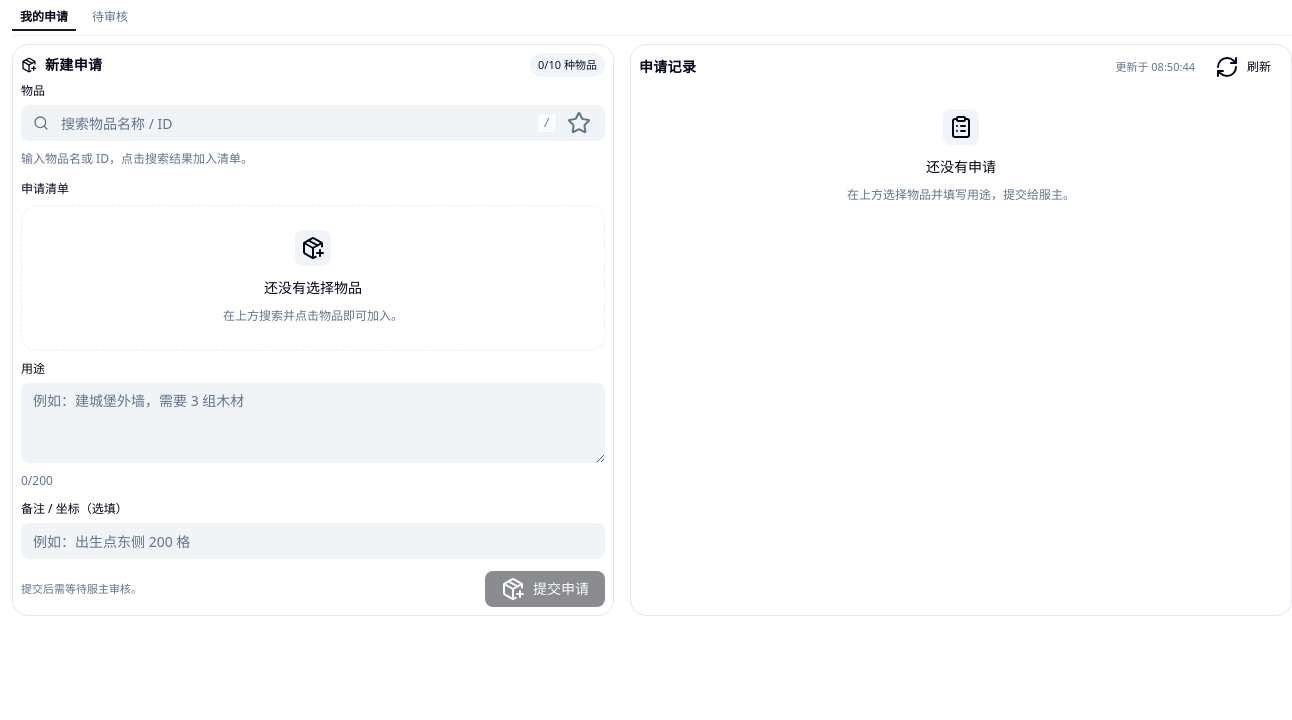
Scenario: RequisitionPage › 搜索物品、填用途并提交申请
Type "生命水晶" into the field with placeholder "搜索物品名称 / ID" at (289, 123), box [49,105,529,141]
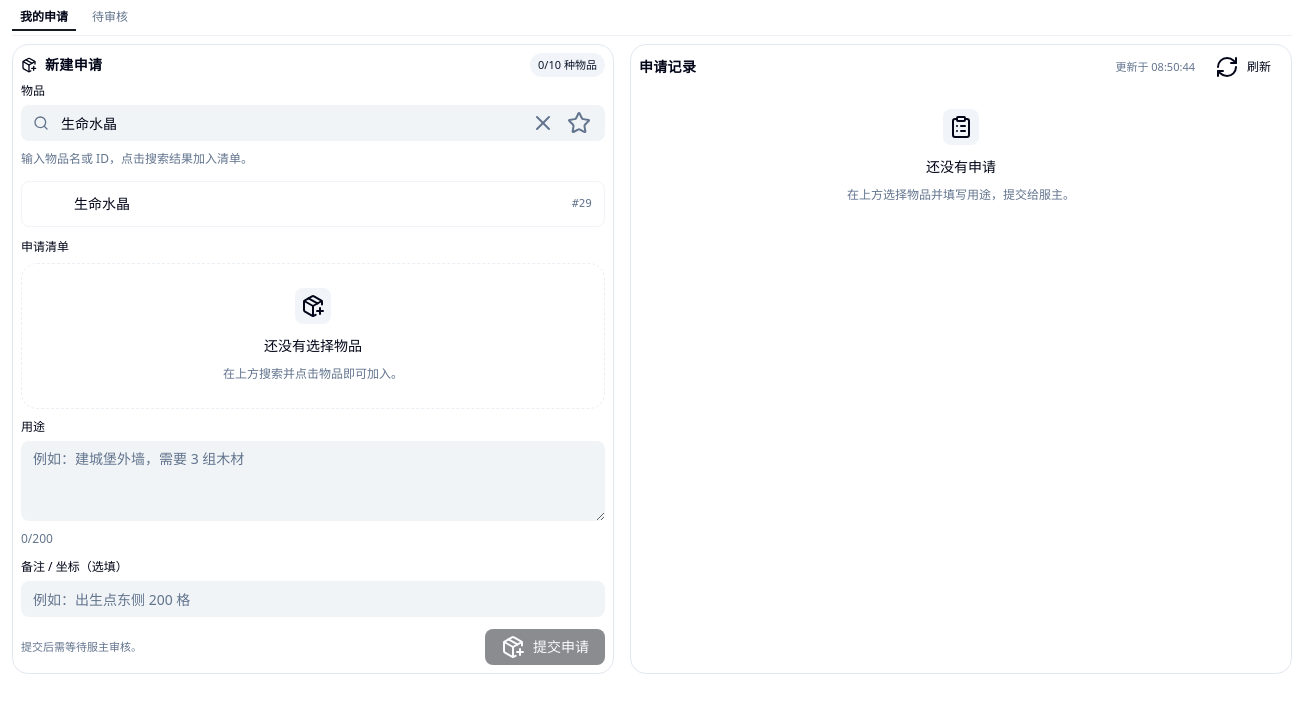
Click the button "生命水晶 #29" at (102, 204), box [22,182,604,226]
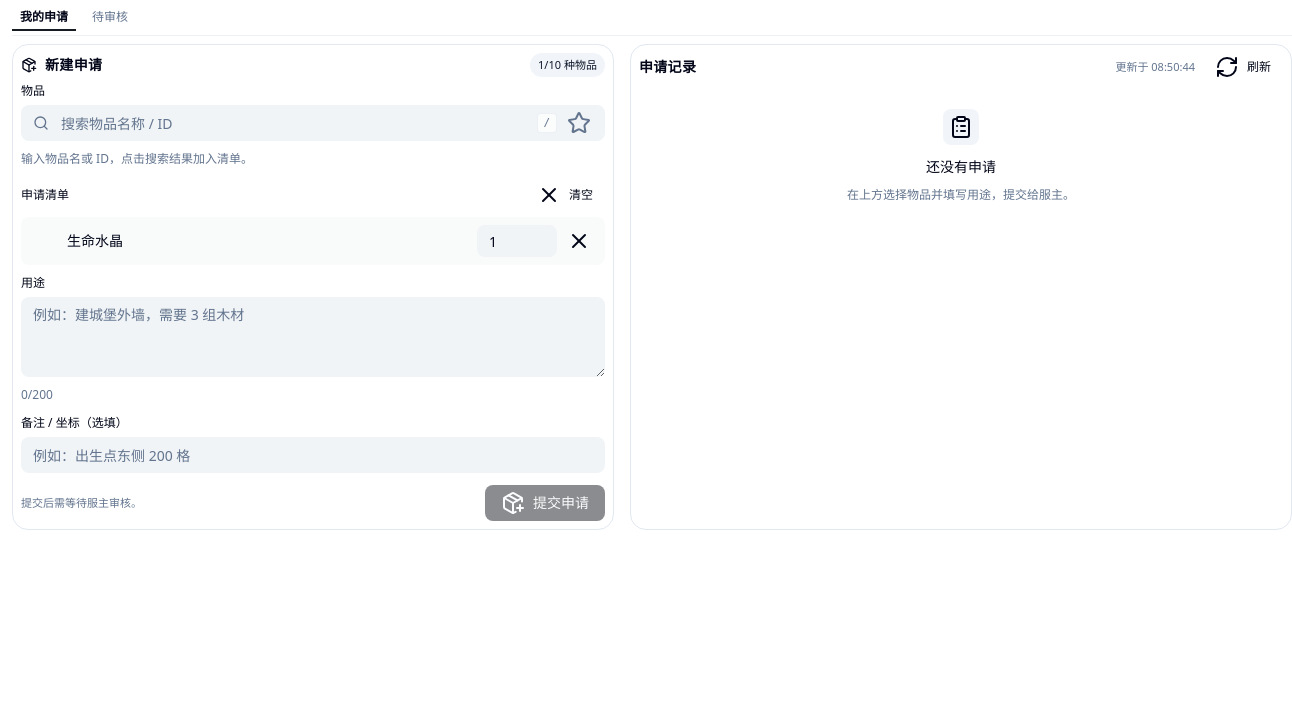
Replace the text in the number field named "数量" with "3" at (517, 241), box [477,225,557,257]
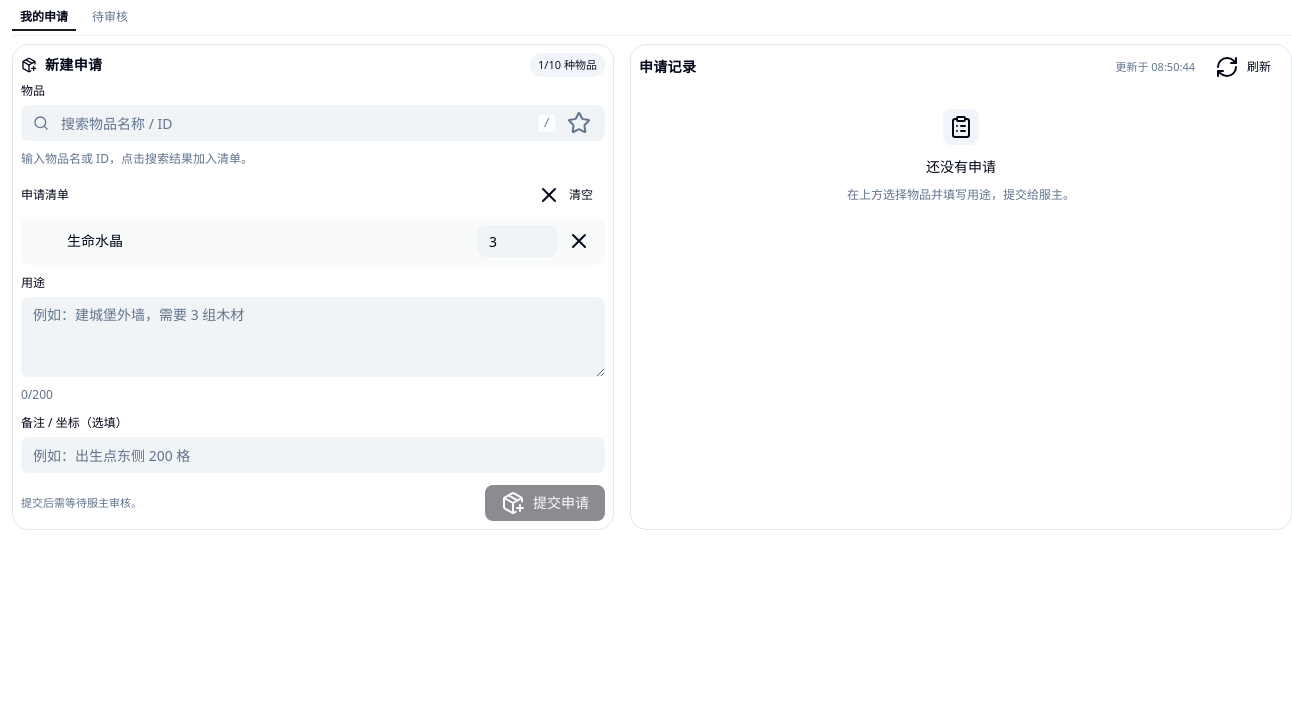
Type "建一个刷怪场" into the text box labelled "用途" at (313, 337), box [21,297,605,377]
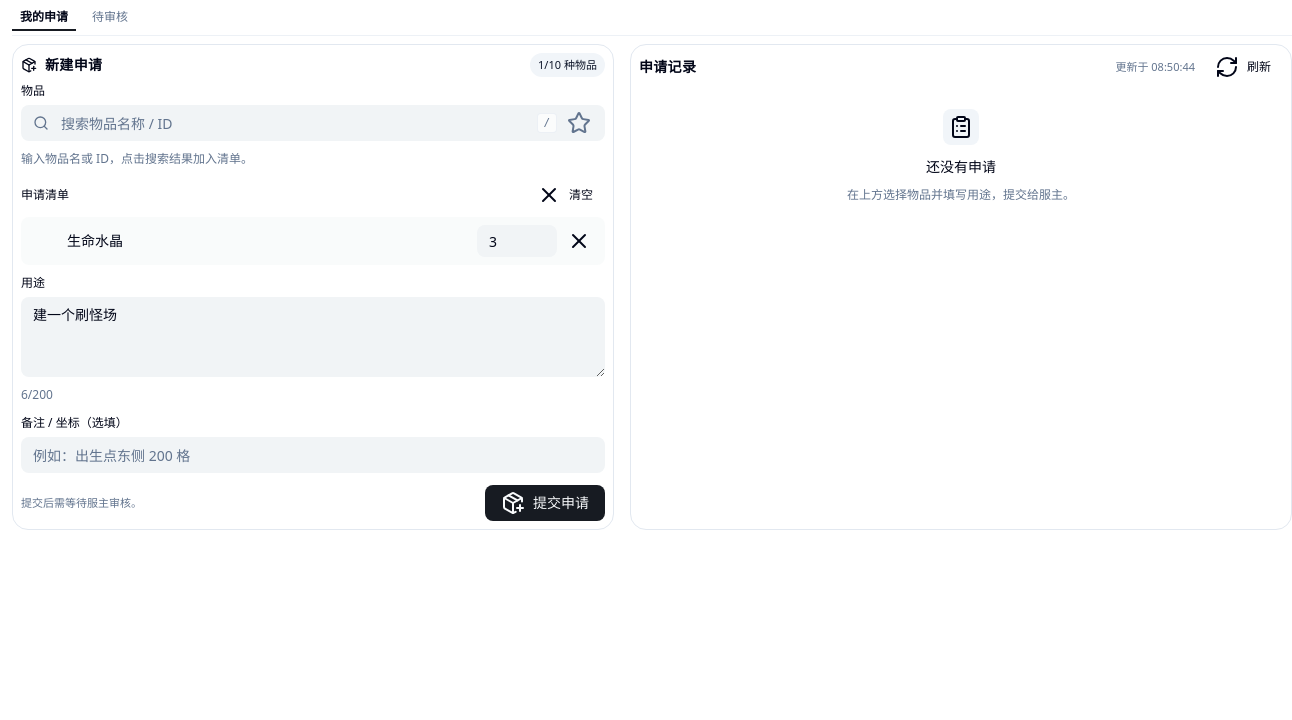
Click the button "提交申请" at (545, 503), box [485,485,605,521]
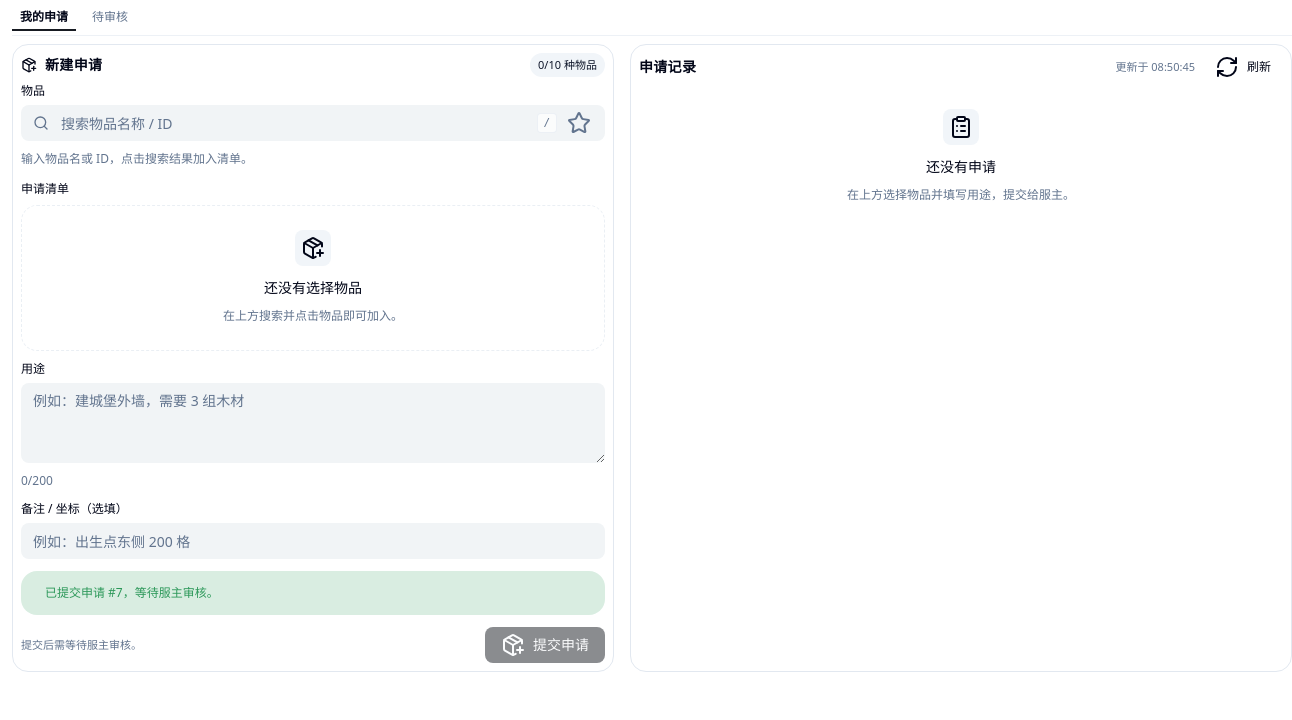
Expected: the text "已提交申请 #7，等待服主审核。" is shown, [45,584,219,601]
